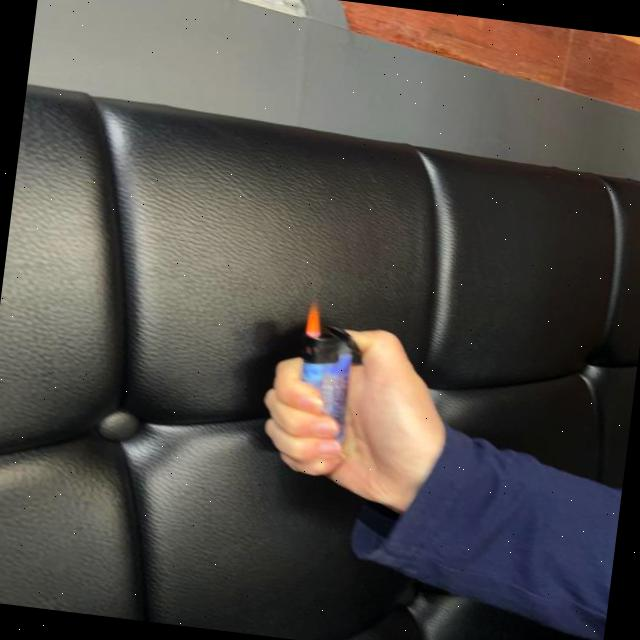fire: (304, 300, 326, 344)
